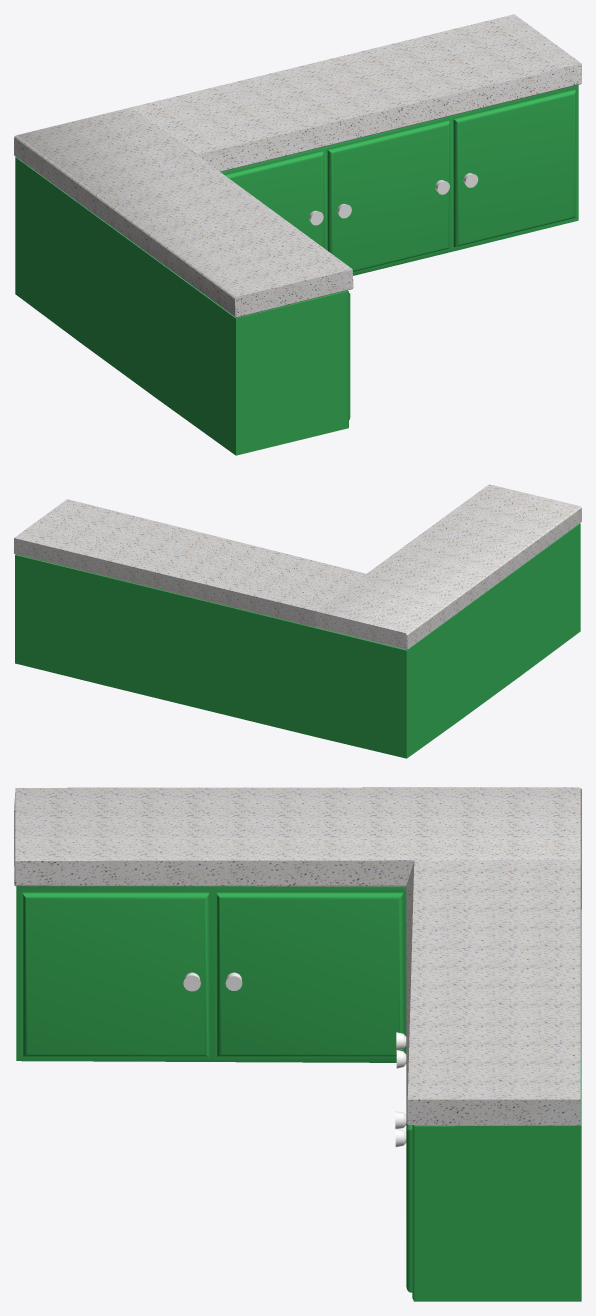
The model's file is Kitchen003.fbx.
The picture shows the model from 3 angles, top to bottom: view 1: azimuth 30°, elevation 25°; view 2: azimuth 150°, elevation 25°; view 3: azimuth 270°, elevation 25°; orthographic projection. The views are drawn at different scales.
Parts seen in each view (by area): view 1: Kitchen.003; view 2: Kitchen.003; view 3: Kitchen.003.
Boxes of the visible parts, x1=… form: Kitchen.003: x1=14, y1=14, x2=581, y2=455; Kitchen.003: x1=14, y1=484, x2=581, y2=758; Kitchen.003: x1=14, y1=787, x2=581, y2=1301.
Size of the model in its own units: 480 by 147 by 369.
Materials: 2 (2 with a texture image).
